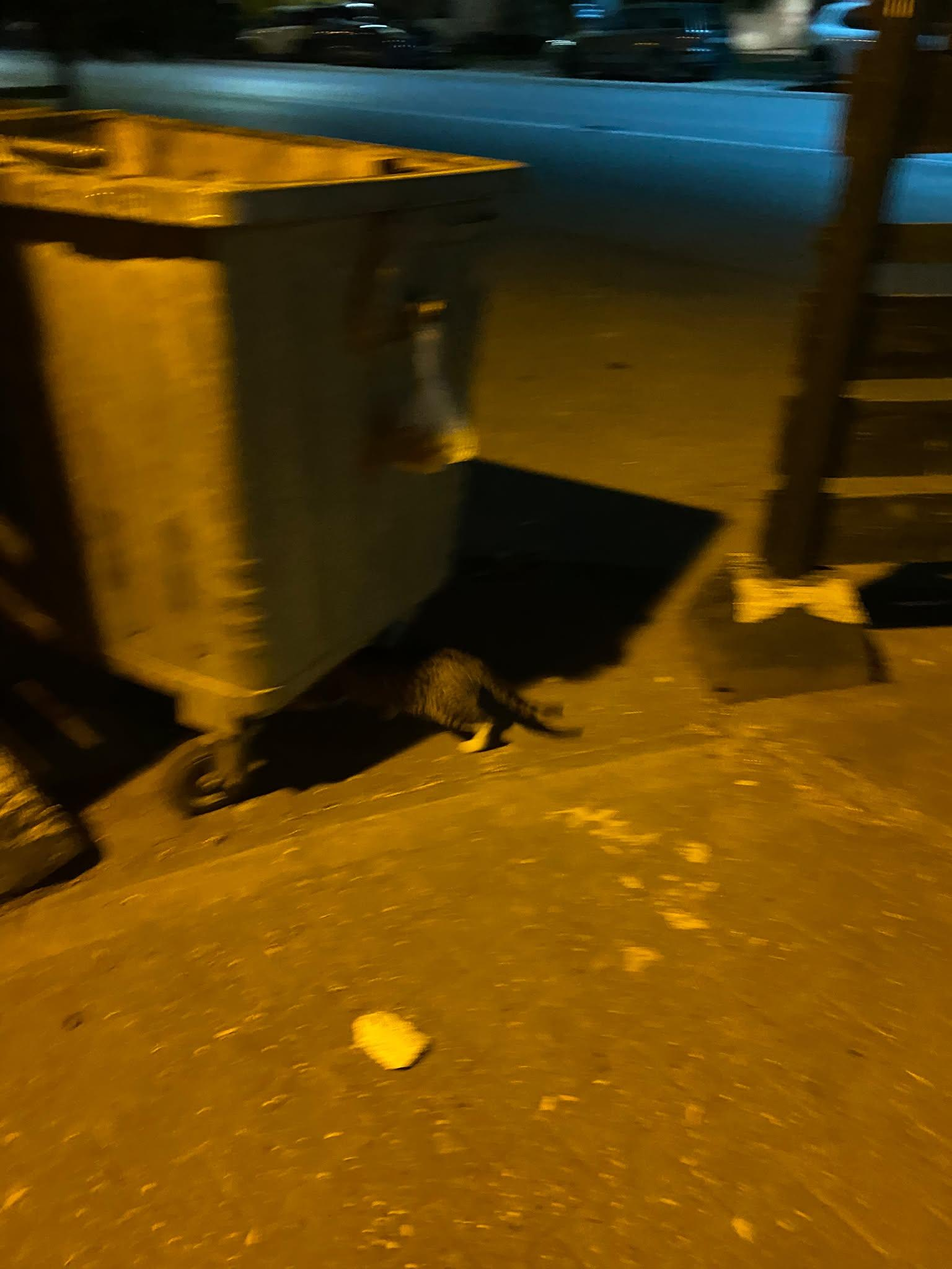macka: (338, 649, 567, 751)
